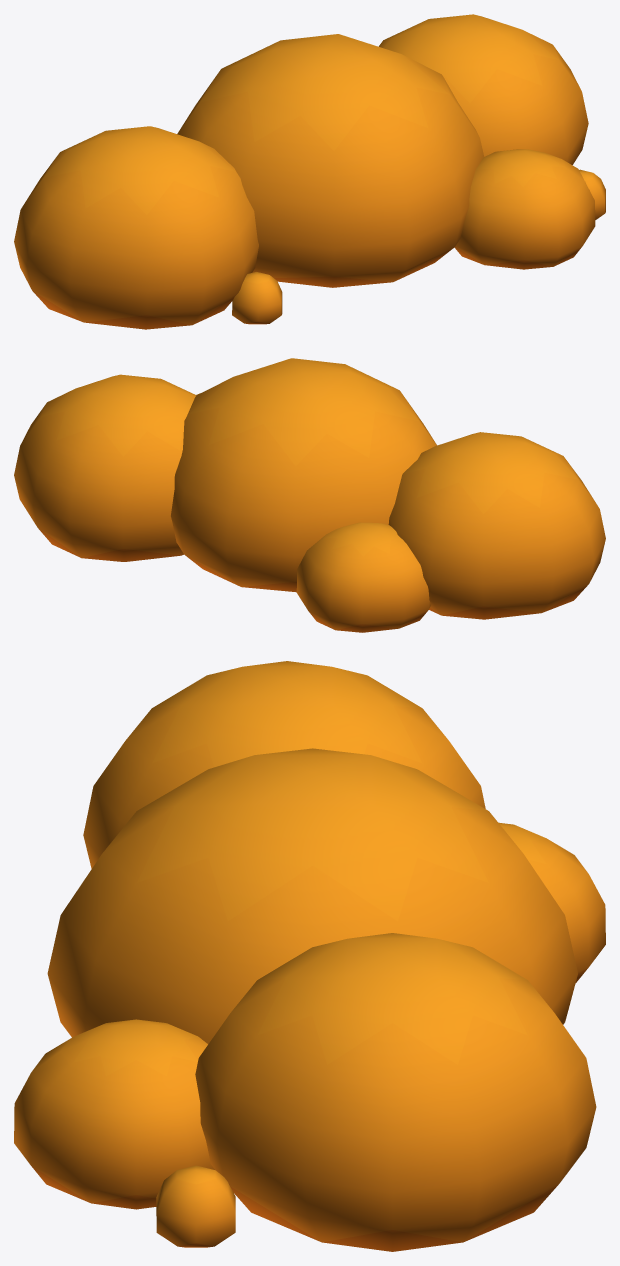
File: Bush_1_G_Color6.fbx
The picture shows the model from 3 angles, top to bottom: view 1: azimuth 30°, elevation 25°; view 2: azimuth 150°, elevation 25°; view 3: azimuth 270°, elevation 25°; orthographic projection. The views are drawn at different scales.
Visible parts, largest first — view 1: Bush_1_G_Color6; view 2: Bush_1_G_Color6; view 3: Bush_1_G_Color6.
Part boxes in pixels (x1=…): Bush_1_G_Color6: x1=14, y1=14, x2=605, y2=329; Bush_1_G_Color6: x1=14, y1=358, x2=605, y2=632; Bush_1_G_Color6: x1=14, y1=661, x2=605, y2=1251.
Size of the model in its own units: 3.1 by 0.9937 by 1.75.
